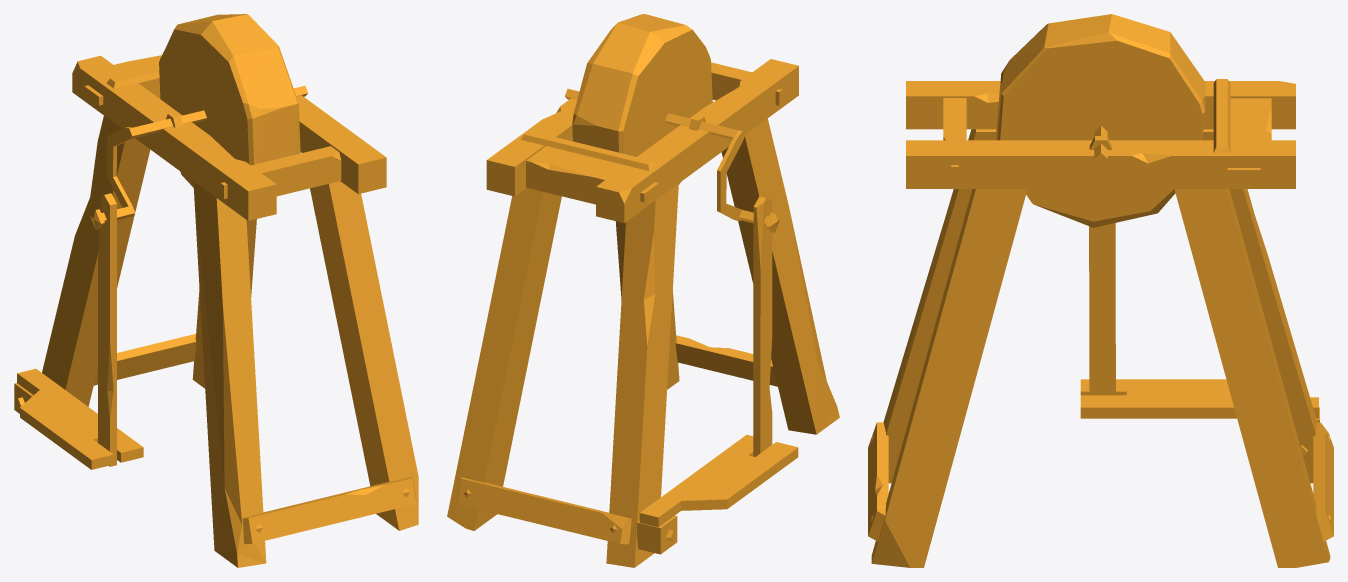
Rendered from SM_Grind_Stone.fbx.
3 views of the same model, side by side, from view 1: azimuth 30°, elevation 25°; view 2: azimuth 150°, elevation 25°; view 3: azimuth 270°, elevation 25° (orthographic). The views are drawn at different scales.
Visible parts, largest first — view 1: grind-stone; view 2: grind-stone; view 3: grind-stone.
Part boxes in pixels (x1,y1,x2,y2): grind-stone: (14,14,418,567); grind-stone: (447,14,839,567); grind-stone: (868,14,1333,567).
Size of the model in its own units: 0.5104 by 0.9057 by 0.7667.
